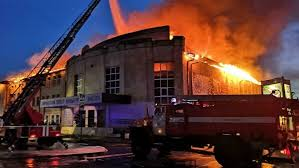fire: (186, 40, 267, 92)
